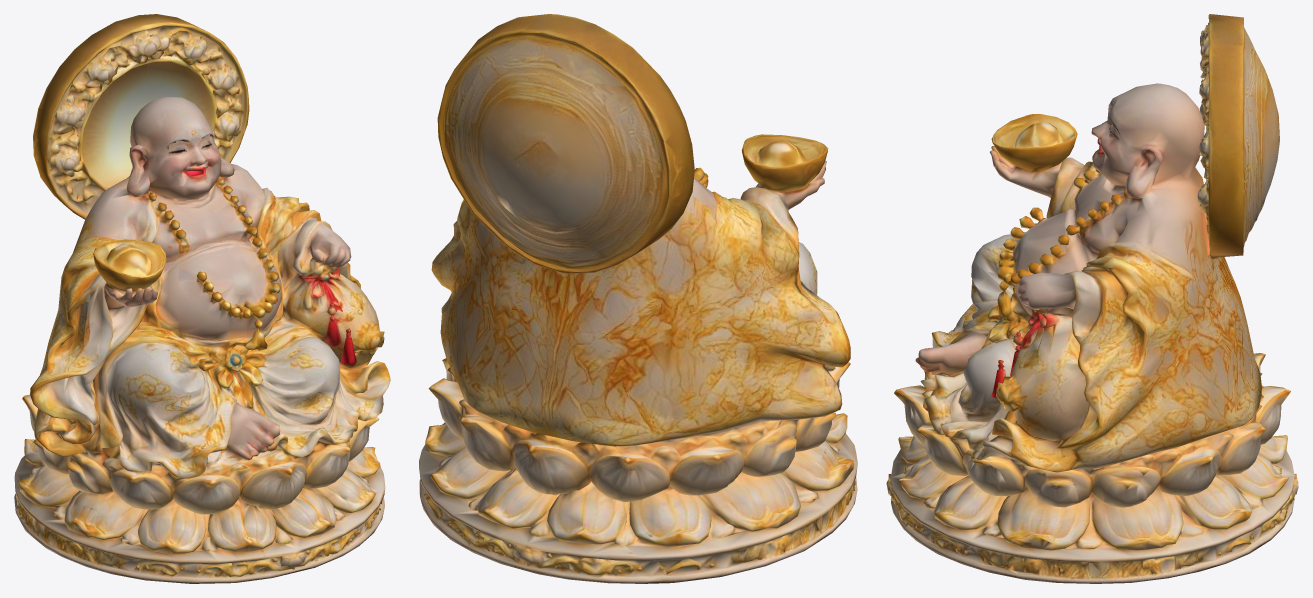
3 views of the same model, side by side, from view 1: azimuth 30°, elevation 25°; view 2: azimuth 150°, elevation 25°; view 3: azimuth 270°, elevation 25° (orthographic). The views are drawn at different scales.
Visible parts, largest first — view 1: owner-collection20-12; view 2: owner-collection20-12; view 3: owner-collection20-12.
Boxes of the visible parts, x1,y1,x2,y2 form: owner-collection20-12: (14, 14, 390, 583); owner-collection20-12: (419, 14, 857, 583); owner-collection20-12: (886, 14, 1298, 583).
Bounding box in the file's own units: 0.8211 × 0.9999 × 0.7849.
1 material, 1 textured.
